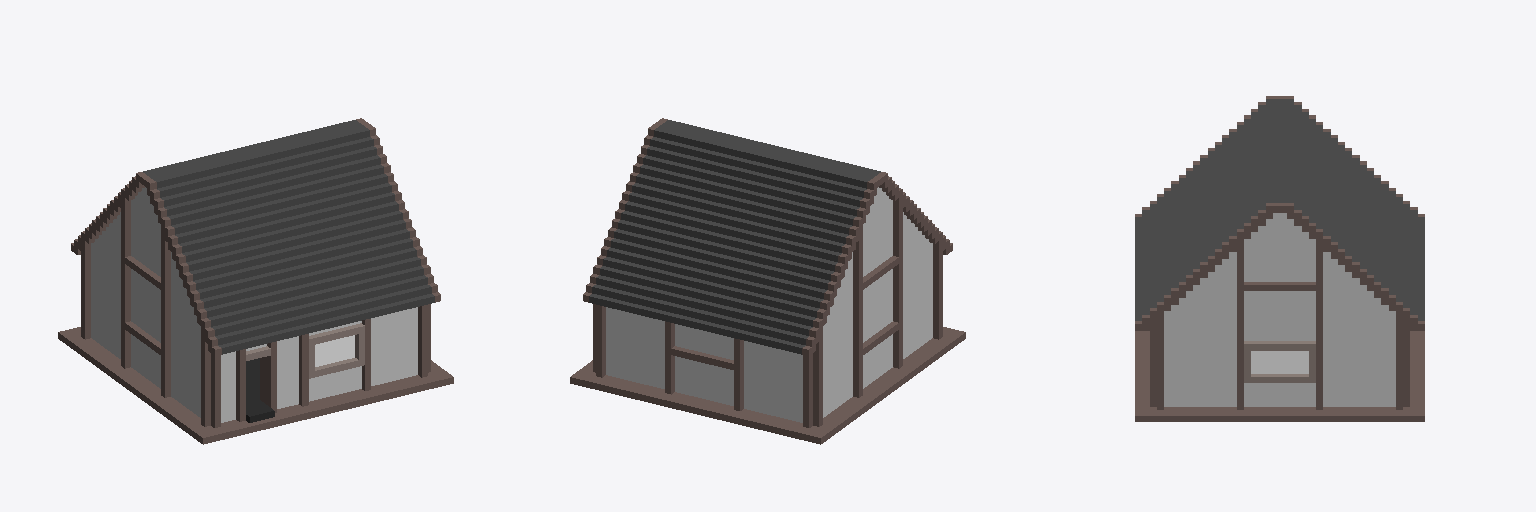
3 views of the same model, side by side, from view 1: azimuth 30°, elevation 25°; view 2: azimuth 150°, elevation 25°; view 3: azimuth 270°, elevation 25° (orthographic).
Parts seen in each view (by area): view 1: object 1; view 2: object 1; view 3: object 1.
Part boxes in pixels (left/top/right/bottom): object 1: left=58, top=118, right=453, bottom=444; object 1: left=570, top=118, right=965, bottom=444; object 1: left=1135, top=96, right=1424, bottom=421.
Bounding box in the file's own units: 4 × 3.2 × 4.
Materials: 1 (1 with a texture image).